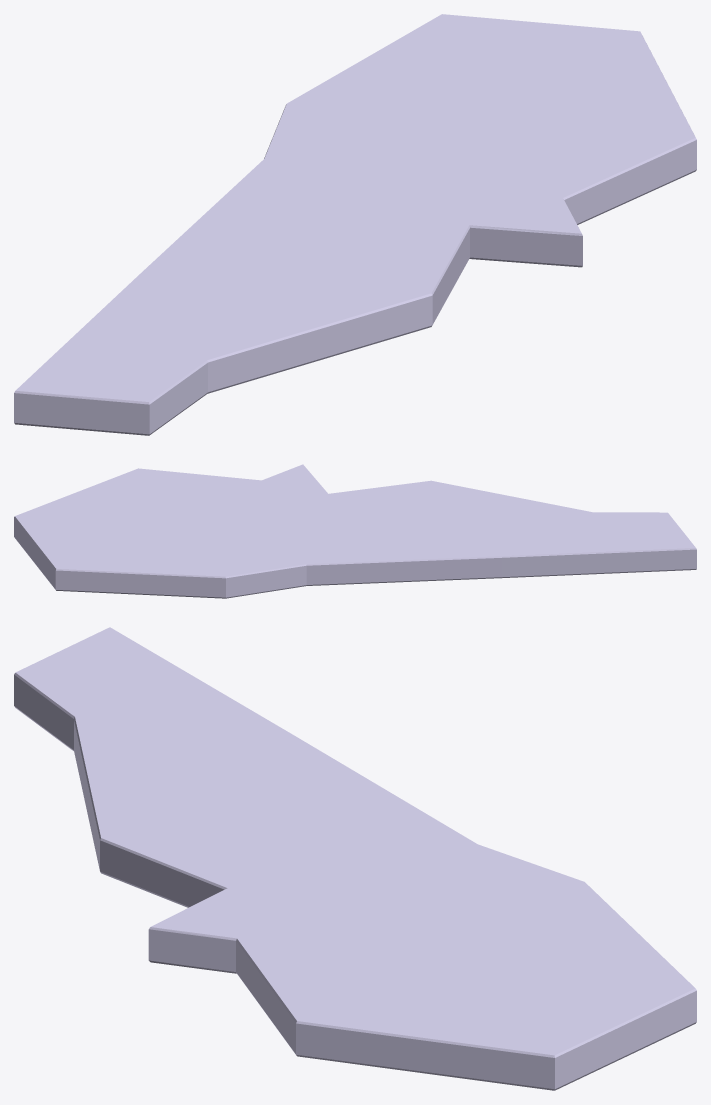
File: LBN.glb
The picture shows the model from 3 angles, top to bottom: view 1: azimuth 30°, elevation 25°; view 2: azimuth 150°, elevation 25°; view 3: azimuth 270°, elevation 25°; orthographic projection. The views are drawn at different scales.
Size of the model in its own units: 1.77 by 0.068 by 1.19.
